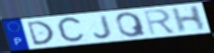C: (56, 15, 87, 45)
D: (25, 20, 55, 47)
H: (170, 4, 208, 34)
J: (92, 14, 113, 40)
Q: (115, 11, 148, 38)
R: (142, 8, 178, 37)
